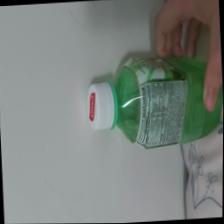plastic: (80, 45, 224, 159)
